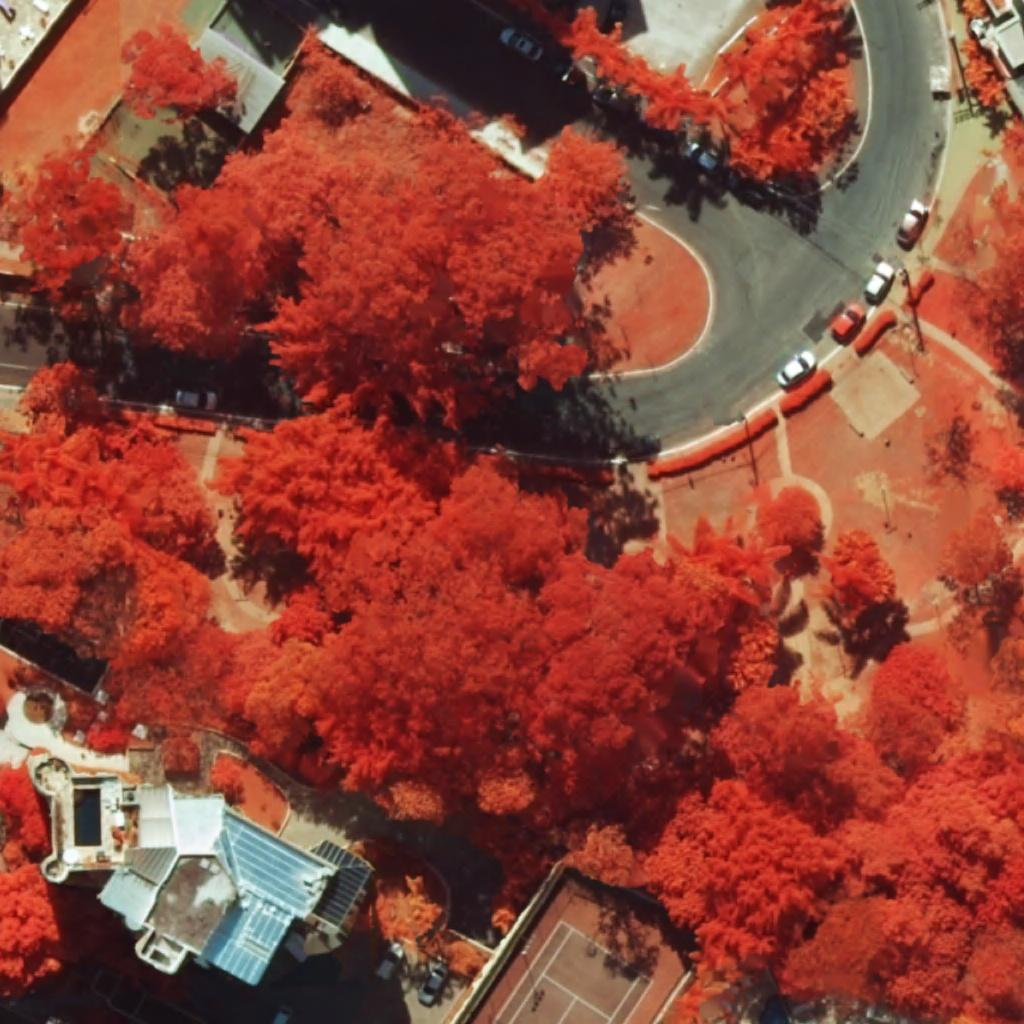pool: (74, 788, 102, 847), (760, 1001, 789, 1024)
